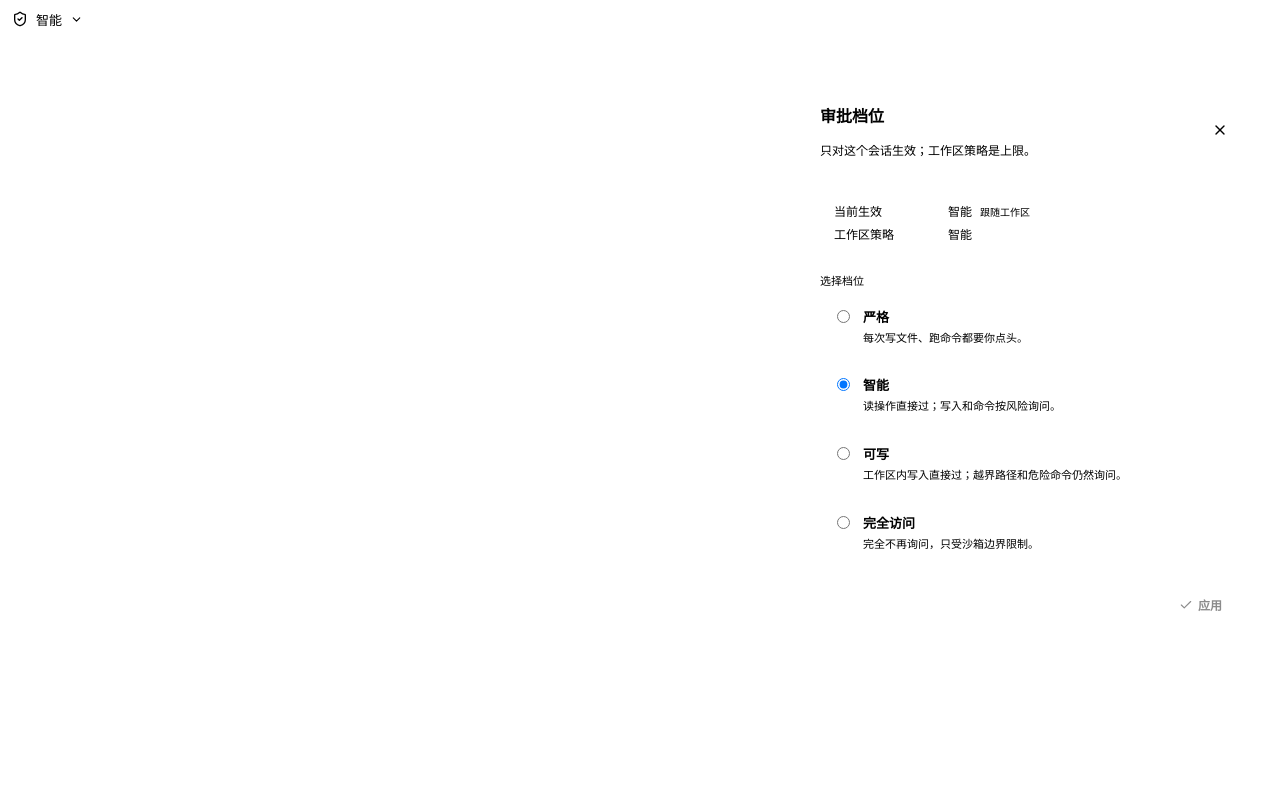
Scenario: permissions panel › explains that a non-loopback page cannot write settings
Click the radio button labelled "严格 每次写文件、跑命令都要你点头。" at (844, 316), box [837, 310, 850, 322]
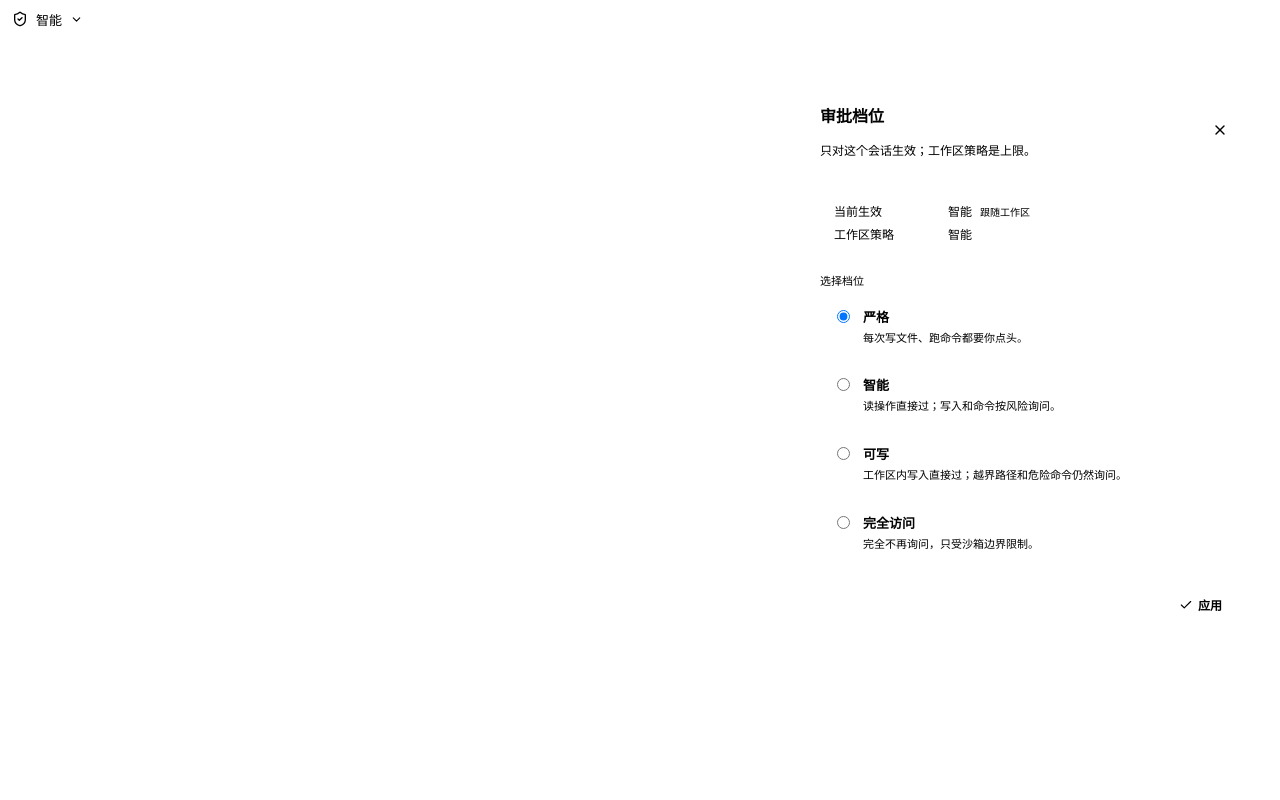
Click the button "应用" at (1200, 605), box [1165, 588, 1236, 621]
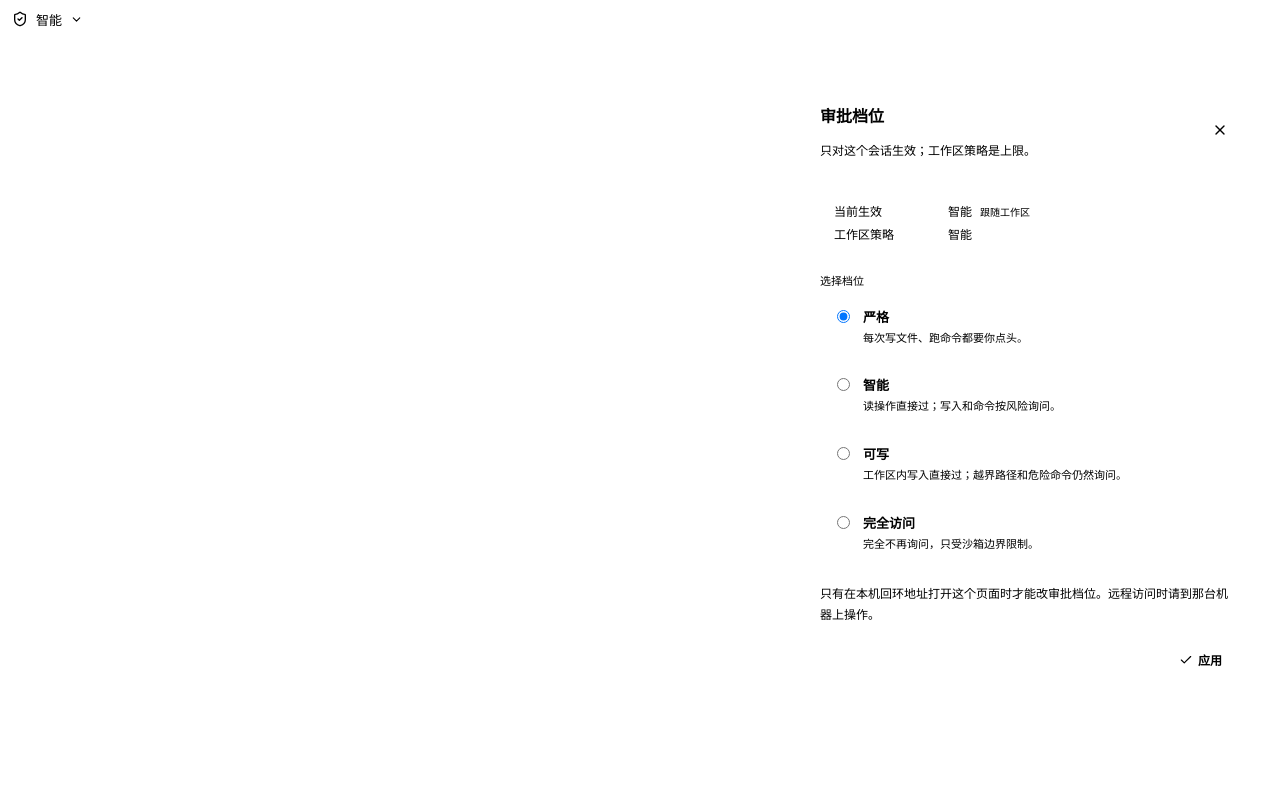
Now the message "只有在本机回环地址打开这个页面时才能改审批档位。远程访问时请到那台机器上操作。" is shown, box [820, 584, 1236, 625]
Now the message shows "只有在本机回环地址", box [820, 586, 1228, 622]
